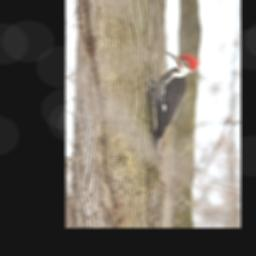Woodpecker: (141, 51, 200, 161)
